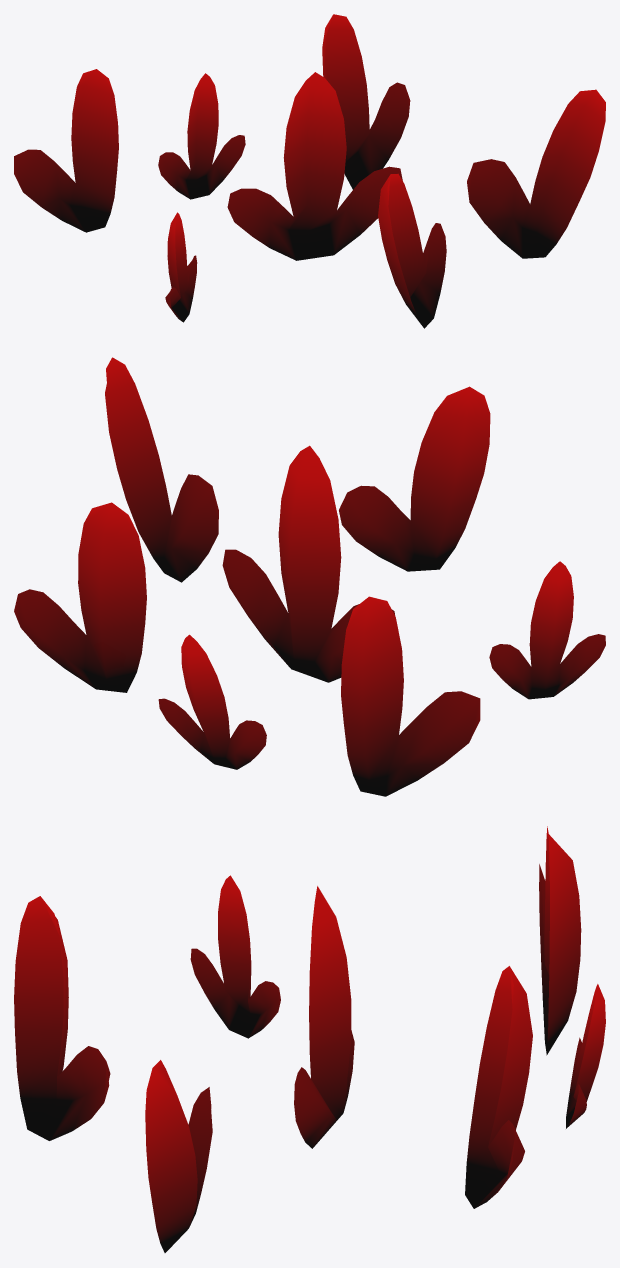
The model's file is tgrass1.fbx.
3 renders of one model, top to bottom at view 1: azimuth 30°, elevation 25°; view 2: azimuth 150°, elevation 25°; view 3: azimuth 270°, elevation 25°, orthographic. The views are drawn at different scales.
Parts seen in each view (by area): view 1: guaracha.013, guaracha.015, guaracha.014; view 2: guaracha.013, guaracha.014, guaracha.015; view 3: guaracha.014, guaracha.013, guaracha.015.
Part boxes in pixels (box(x1,y1,x2,y2)): guaracha.013: box(158, 72, 402, 322); guaracha.015: box(14, 69, 605, 258); guaracha.014: box(322, 14, 446, 328); guaracha.013: box(158, 445, 605, 769); guaracha.014: box(14, 386, 490, 692); guaracha.015: box(105, 357, 480, 796); guaracha.014: box(14, 896, 532, 1208); guaracha.013: box(190, 875, 605, 1148); guaracha.015: box(145, 826, 581, 1252).
Size of the model in its own units: 341 by 136 by 289.
